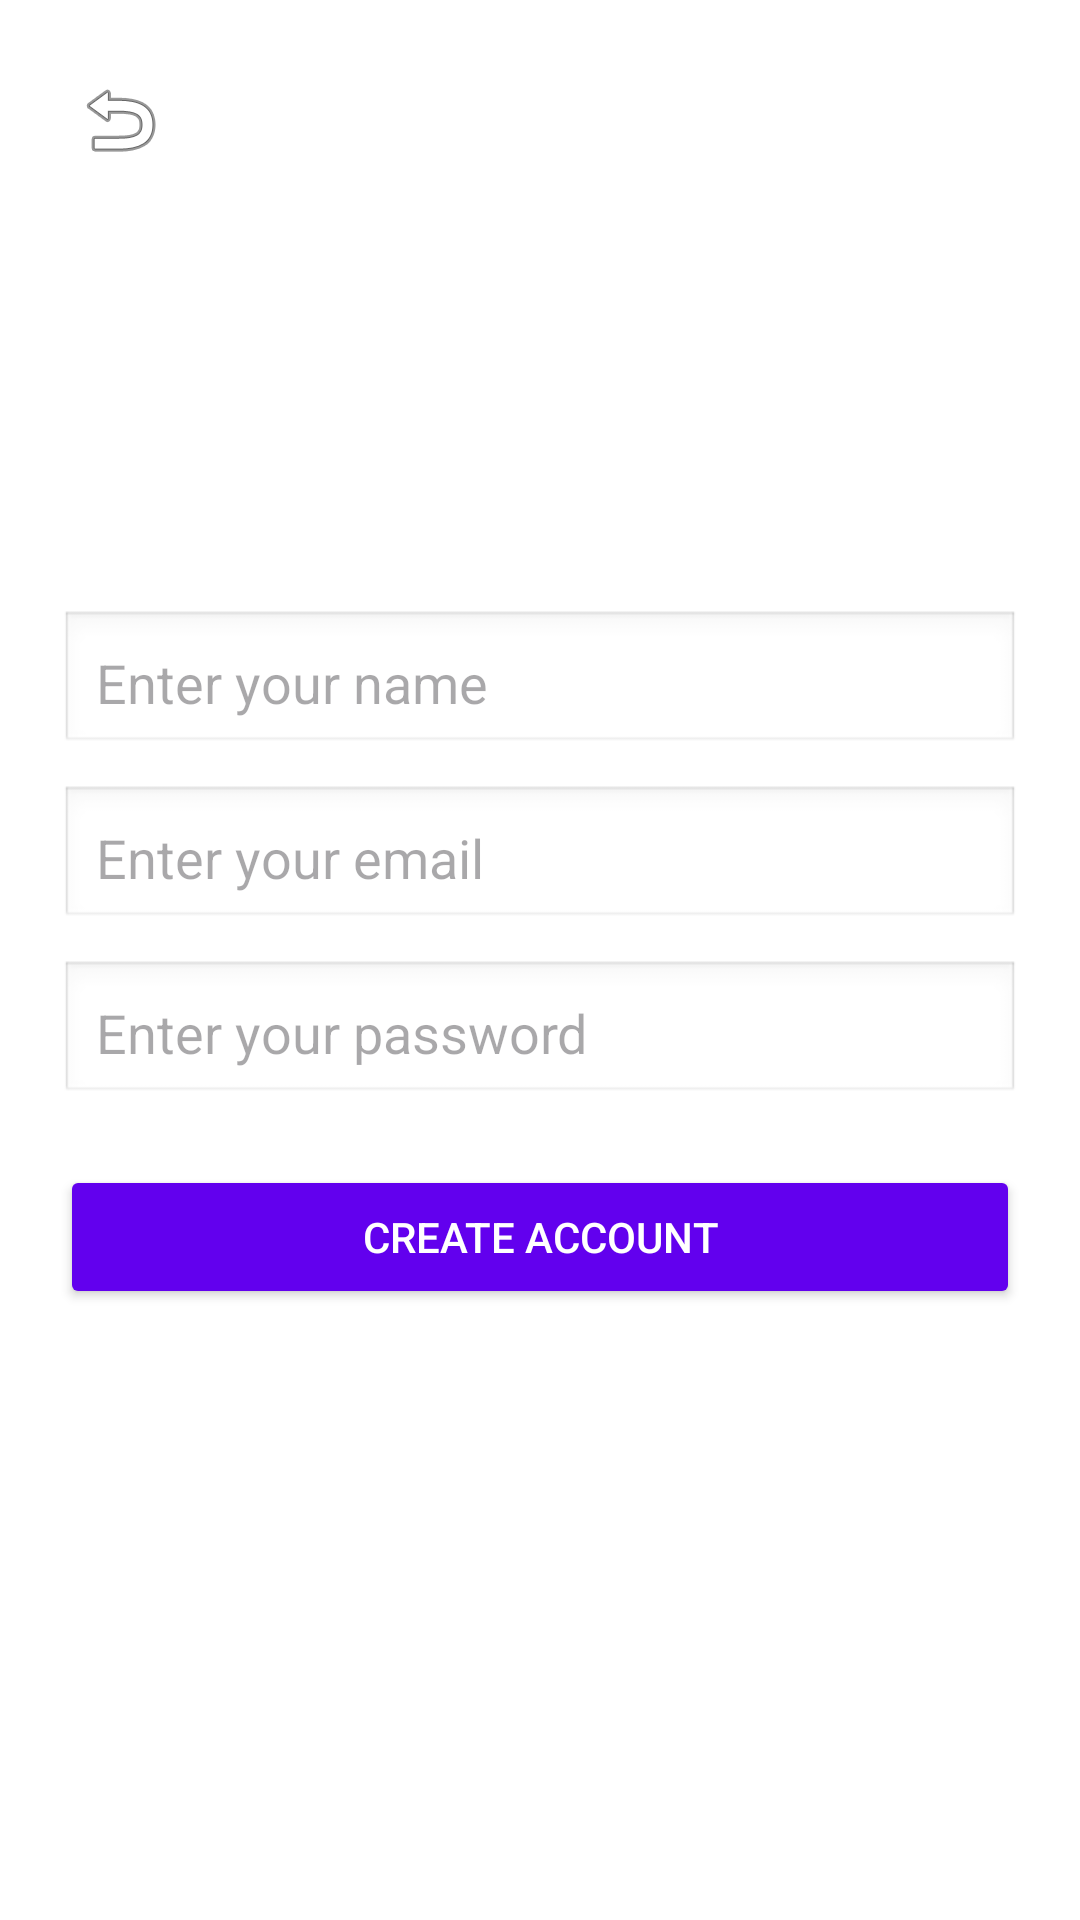

Where to tap for icons on this 1080w x 1920h app screen, as point (x, y):
Back to Home: point (121, 120)
